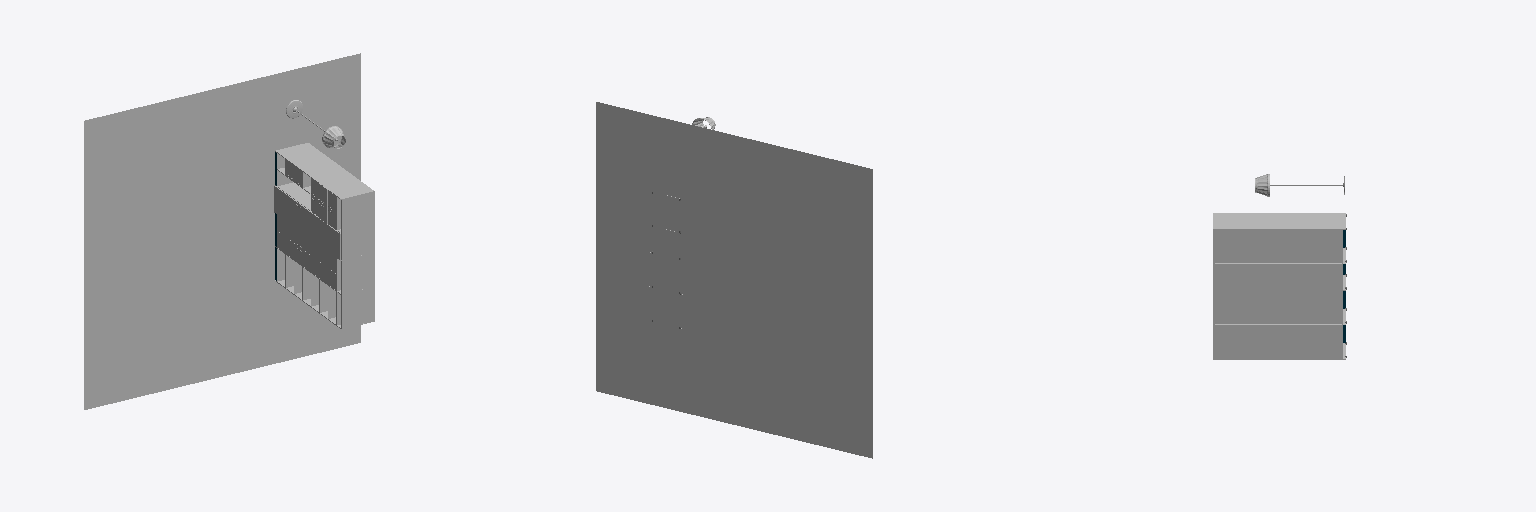
File: ABpiece2.obj
3 renders of one model, left to right at view 1: azimuth 30°, elevation 25°; view 2: azimuth 150°, elevation 25°; view 3: azimuth 270°, elevation 25°, orthographic.
Parts seen in each view (by area): view 1: bathroomFloor, object_9, Lamp; view 2: bathroomFloor; view 3: object_9.
Boxes of the visible parts, <box> form: bathroomFloor: <box>84,53,360,409</box>; object_9: <box>274,143,374,329</box>; Lamp: <box>286,100,345,148</box>; bathroomFloor: <box>596,102,872,458</box>; object_9: <box>1213,213,1346,359</box>.
Bounding box in the file's own units: 6 × 6 × 2.5.